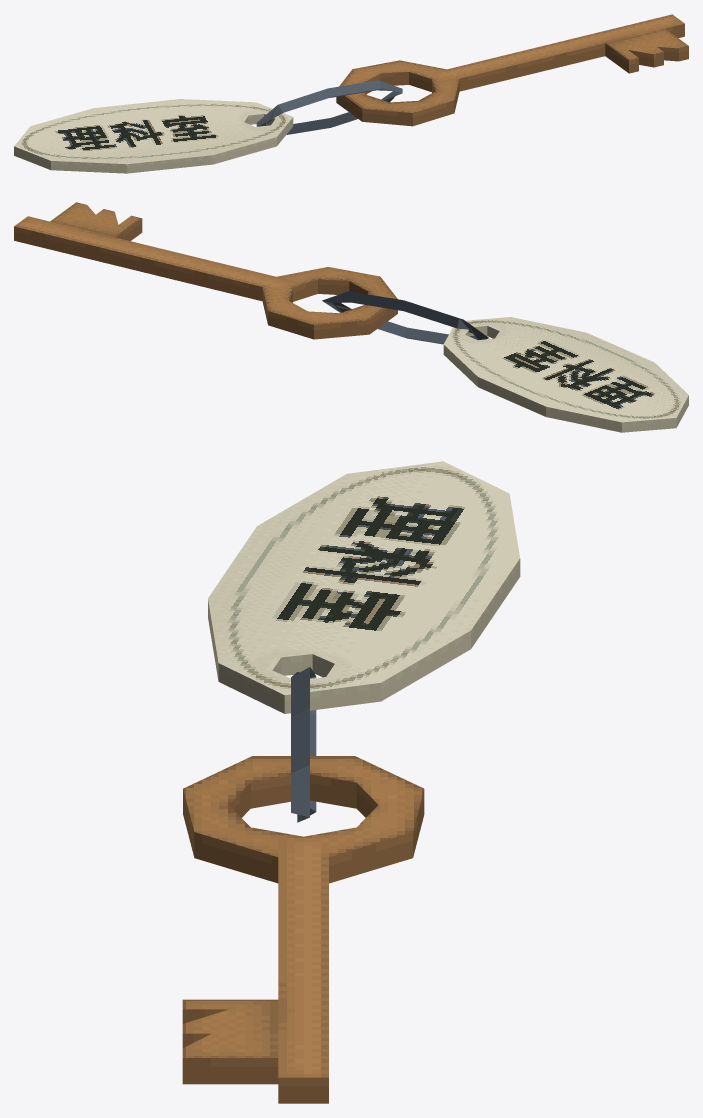
Rendered from prop_item_science_key.glb.
The picture shows the model from 3 angles, top to bottom: view 1: azimuth 30°, elevation 25°; view 2: azimuth 150°, elevation 25°; view 3: azimuth 270°, elevation 25°; orthographic projection. The views are drawn at different scales.
Visible parts, largest first — view 1: prop_item_science_key; view 2: prop_item_science_key; view 3: prop_item_science_key.
Part boxes in pixels (box(x1,y1,x2,y2)): prop_item_science_key: box(14, 14, 688, 173); prop_item_science_key: box(14, 202, 688, 432); prop_item_science_key: box(182, 461, 520, 1103).
Bounding box in the file's own units: 0.1263 × 0.00711 × 0.0293.
Materials: 1 (1 with a texture image).
